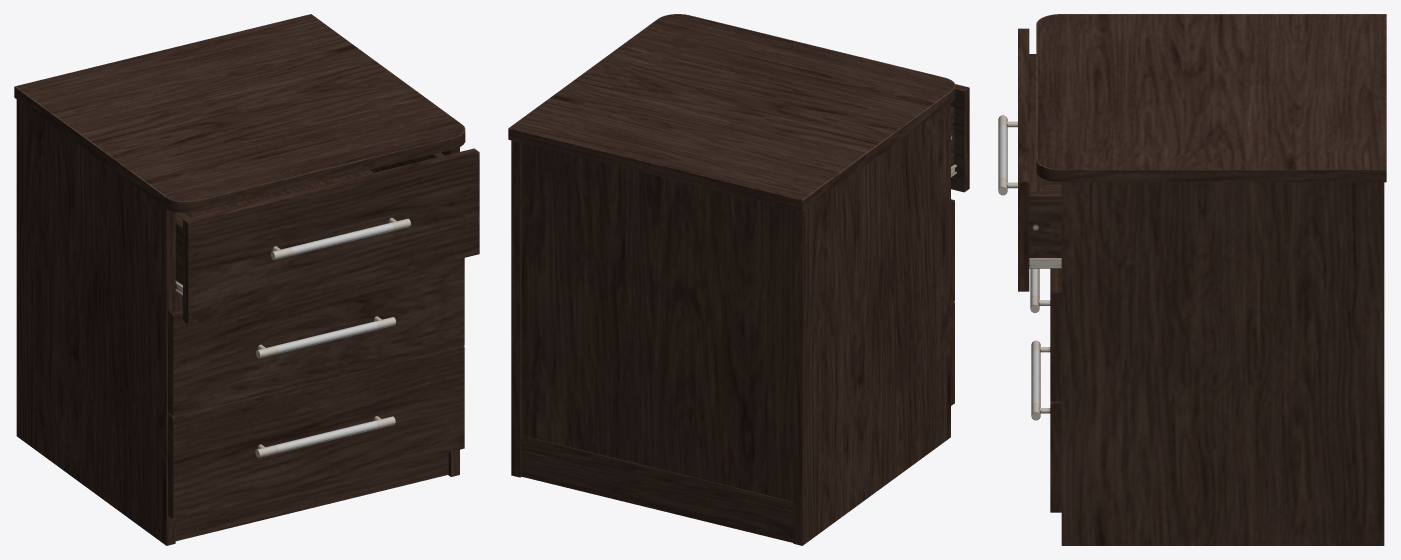
Rendered from bedside_table.glb.
The picture shows the model from 3 angles, left to right: view 1: azimuth 30°, elevation 25°; view 2: azimuth 150°, elevation 25°; view 3: azimuth 270°, elevation 25°; orthographic projection. The views are drawn at different scales.
Parts seen in each view (by area): view 1: Bedside_Table_2_LP; view 2: Bedside_Table_2_LP; view 3: Bedside_Table_2_LP.
Part boxes in pixels (bbox=[...]): Bedside_Table_2_LP: bbox=[14, 14, 479, 545]; Bedside_Table_2_LP: bbox=[508, 14, 969, 545]; Bedside_Table_2_LP: bbox=[998, 14, 1386, 545].
Bounding box in the file's own units: 1.97 × 2.22 × 2.07.
2 materials, 2 textured.
